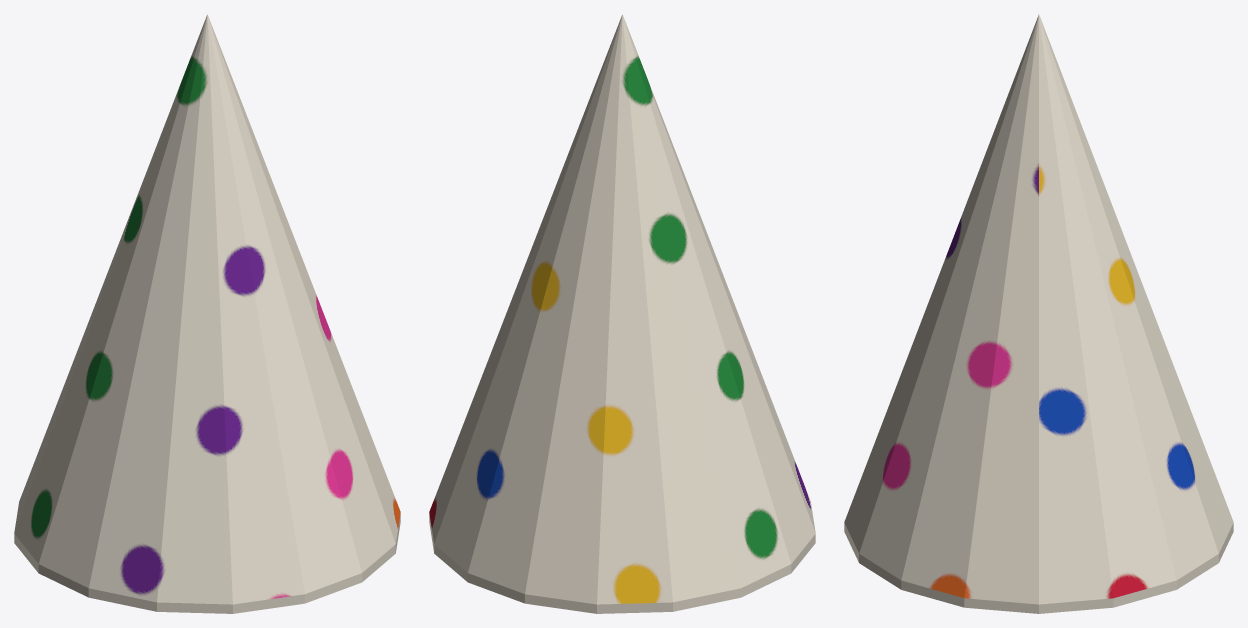
Rendered from party_hat_dots.glb.
The picture shows the model from 3 angles, left to right: view 1: azimuth 30°, elevation 25°; view 2: azimuth 150°, elevation 25°; view 3: azimuth 270°, elevation 25°; orthographic projection.
Visible parts, largest first — view 1: party_hat_dots; view 2: party_hat_dots; view 3: party_hat_dots.
Part boxes in pixels (x1,y1,x2,y2): party_hat_dots: (14,14,400,613); party_hat_dots: (429,14,815,613); party_hat_dots: (844,14,1233,613).
Bounding box in the file's own units: 0.15 × 0.22 × 0.15.
2 materials, 2 textured.
